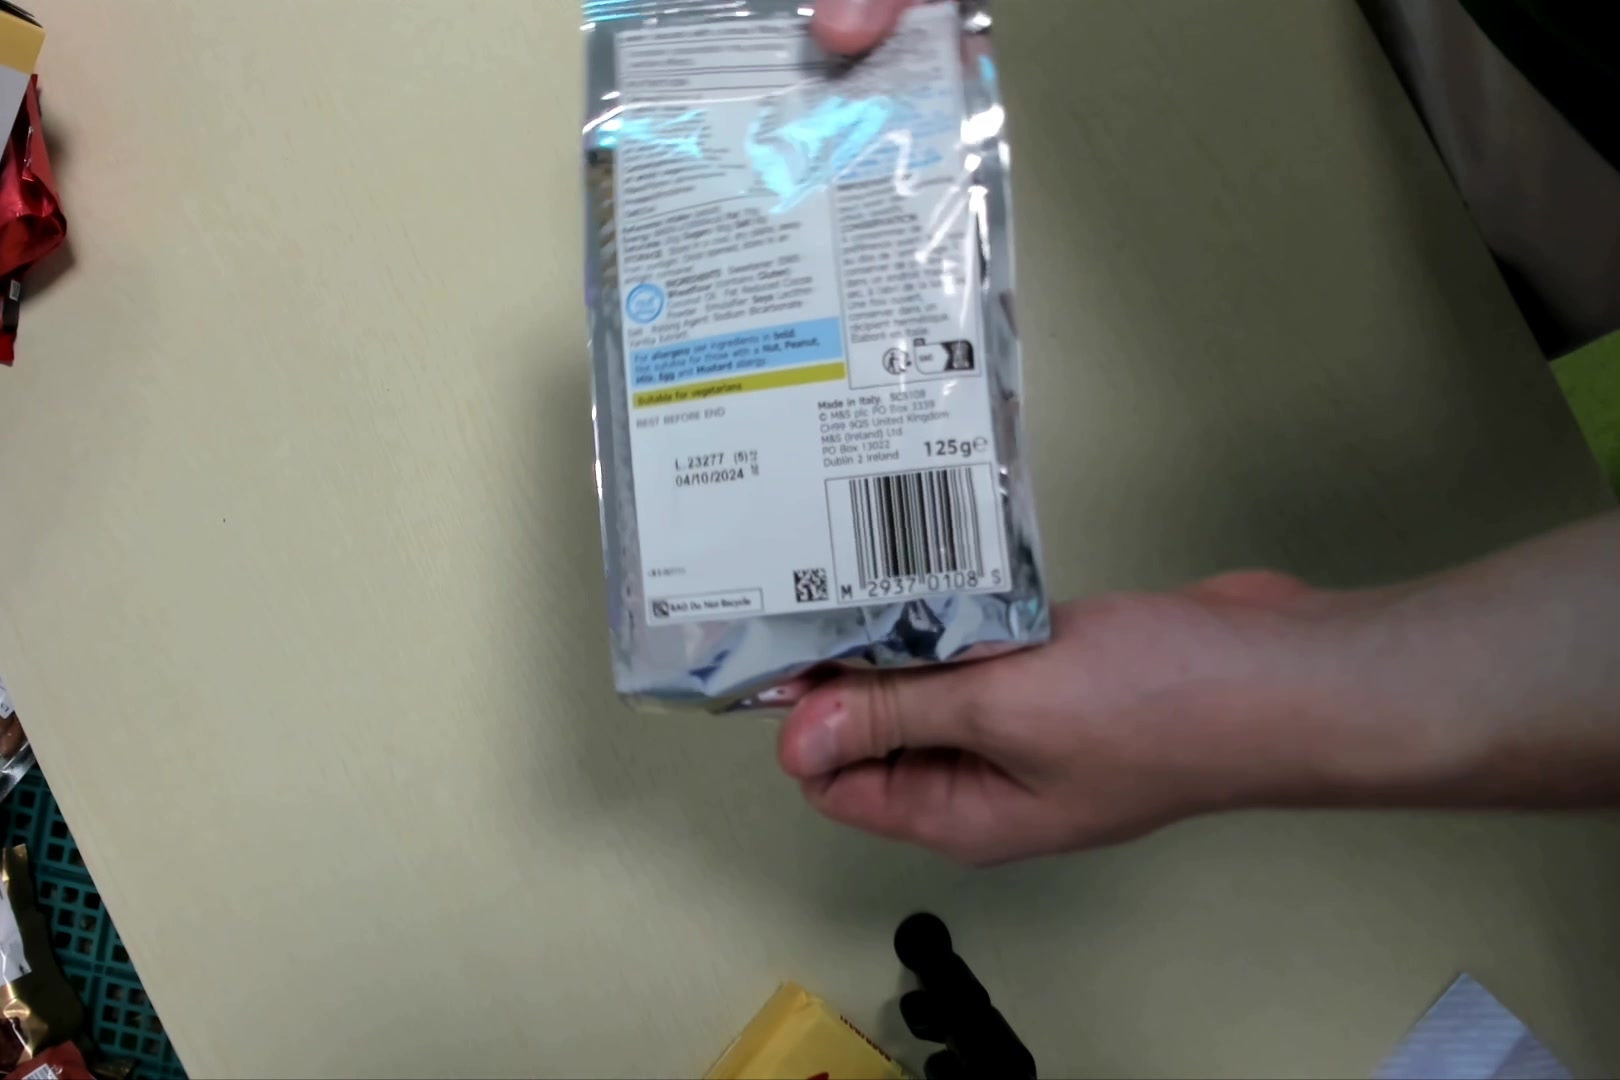SweetsChocolatesOthers_100-199g_NonHalal_NonHealthy: (571, 8, 1049, 720)
